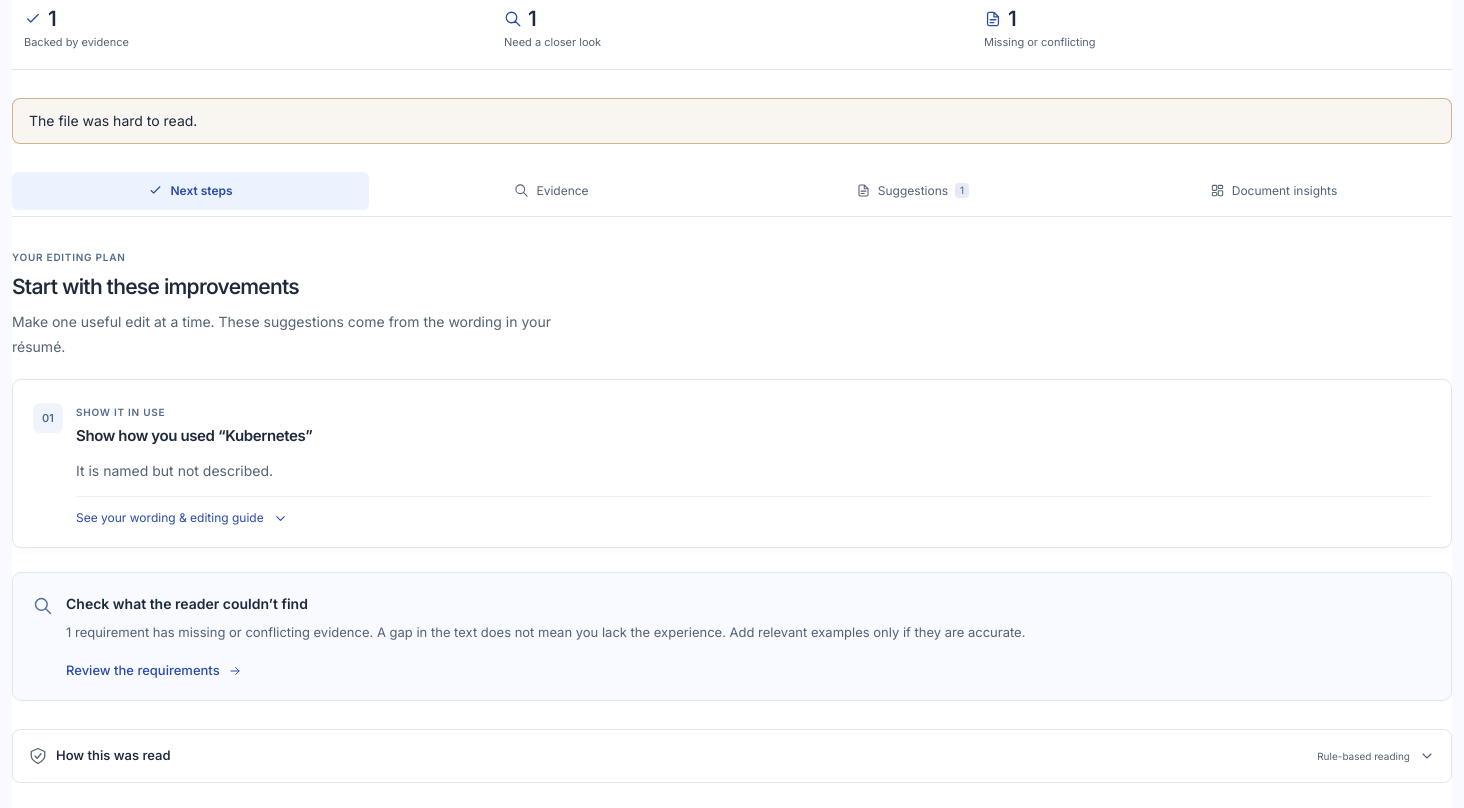
it: AnalysisResults › shows an actionable edit first and reveals original wording and an honest template on demand
Expected: the heading "Show how you used “Kubernetes”" is shown, [76, 424, 312, 448]
Expected: the text "It is named but not described." is shown, [76, 462, 273, 479]
Click the heading "See your wording & editing guide" at (182, 518), box [76, 510, 288, 526]
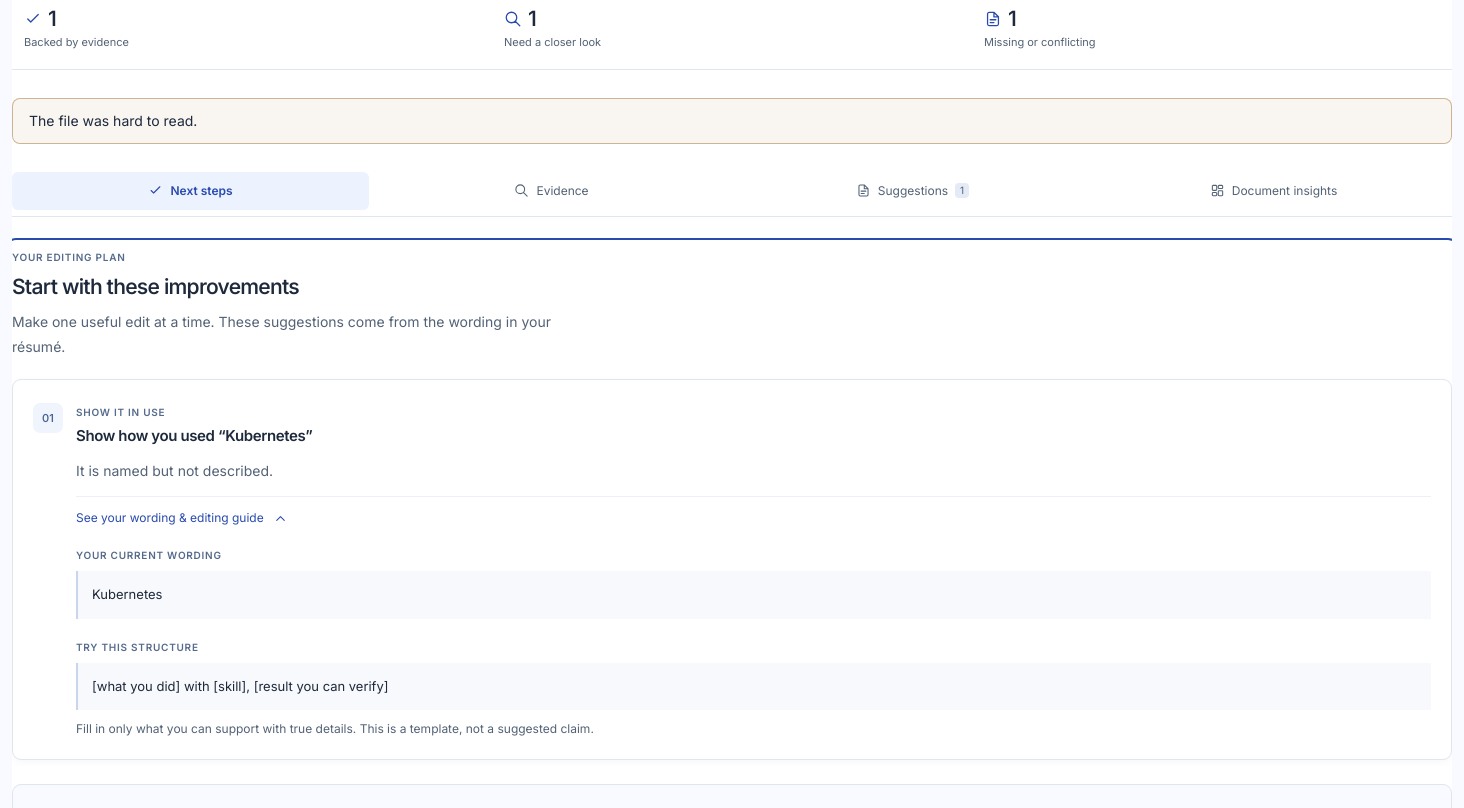
Expected: the text "Try this structure" is shown, [76, 641, 199, 653]
Expected: the text "Fill in only what you can support" is shown, [76, 721, 594, 736]
